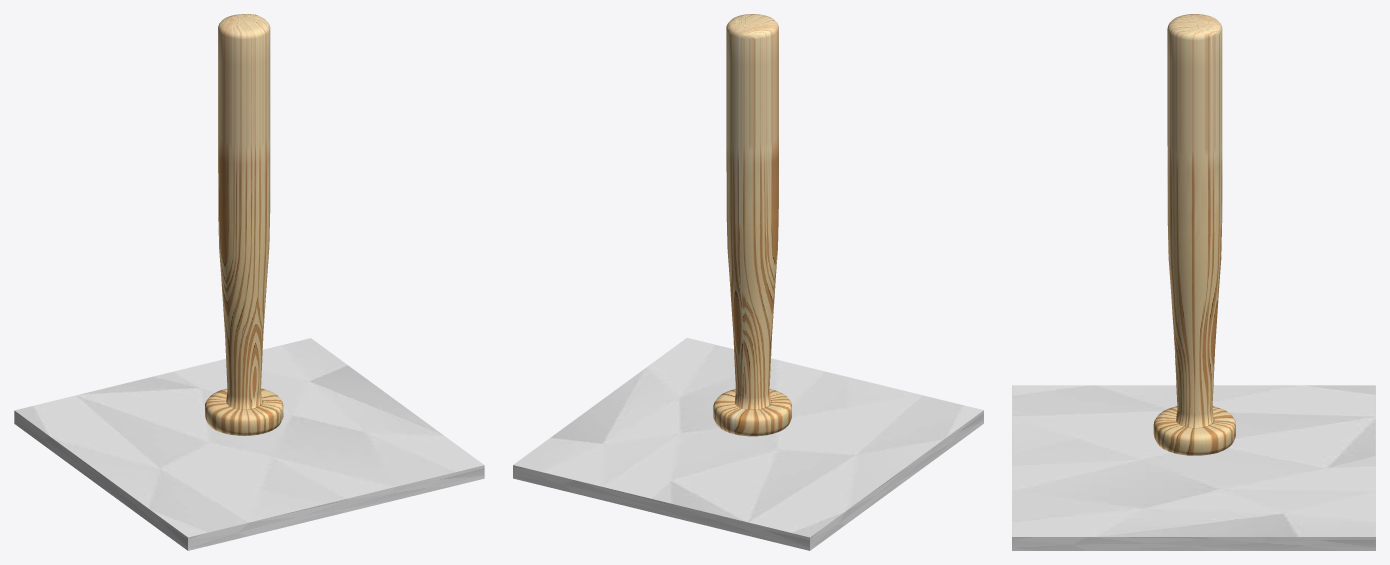
File: bate.DAE
3 renders of one model, left to right at view 1: azimuth 30°, elevation 25°; view 2: azimuth 150°, elevation 25°; view 3: azimuth 270°, elevation 25°, orthographic. The views are drawn at different scales.
Parts seen in each view (by area): view 1: Box001, Cylinder01; view 2: Box001, Cylinder01; view 3: Box001, Cylinder01.
Part boxes in pixels (left/top/right/bottom): Box001: left=14, top=338, right=484, bottom=550; Cylinder01: left=205, top=14, right=283, bottom=435; Box001: left=513, top=338, right=983, bottom=550; Cylinder01: left=713, top=14, right=791, bottom=436; Box001: left=1012, top=385, right=1375, bottom=550; Cylinder01: left=1153, top=14, right=1235, bottom=455.
Bounding box in the file's own units: 133 × 135 × 184.
Materials: 2 (2 with a texture image).
